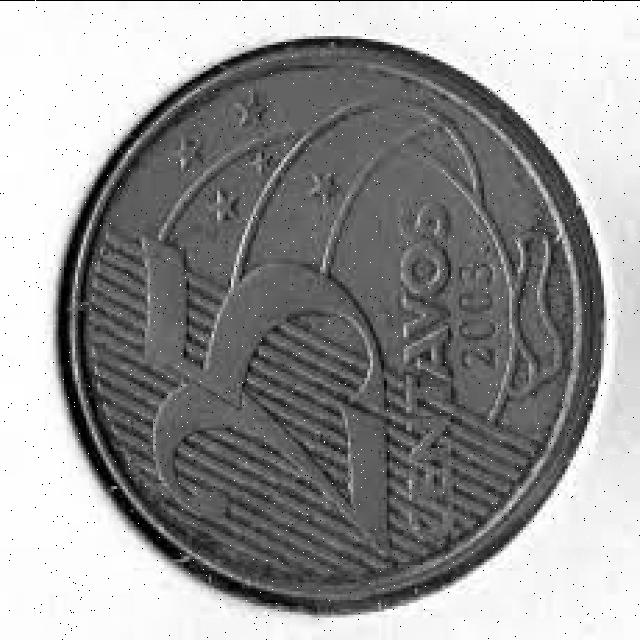25 cent: (60, 63, 580, 590)
